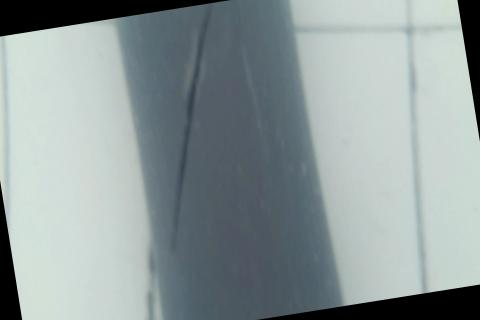keretakan: (131, 2, 254, 254)
